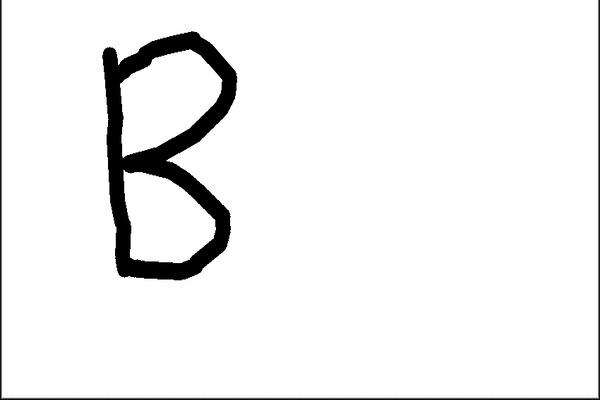B: (88, 21, 244, 292)
